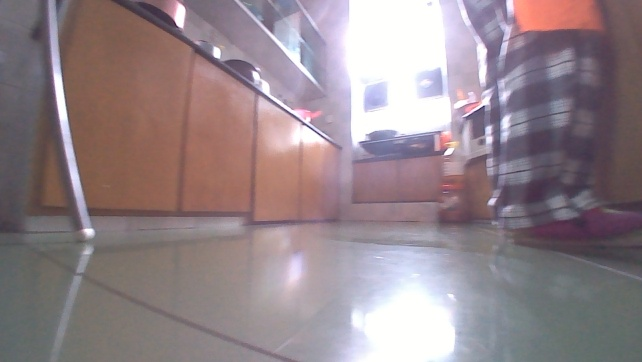cupboard: (25, 0, 345, 235), (351, 147, 446, 221)
shoe: (510, 204, 641, 250)
